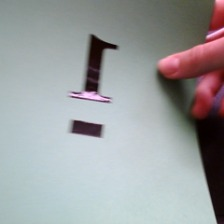green1: (63, 29, 120, 149)
